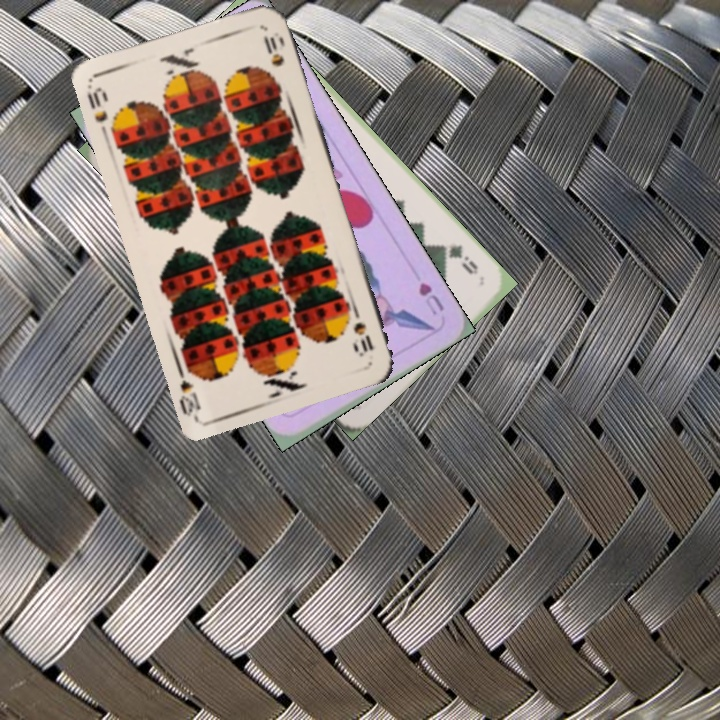G9: (435, 240, 481, 278)
HU: (414, 278, 447, 318)
S10: (349, 303, 376, 359), (83, 83, 111, 125)
